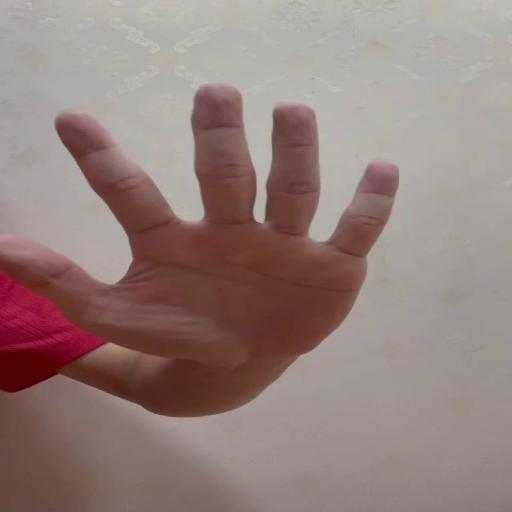open_palm: (2, 81, 401, 367)
